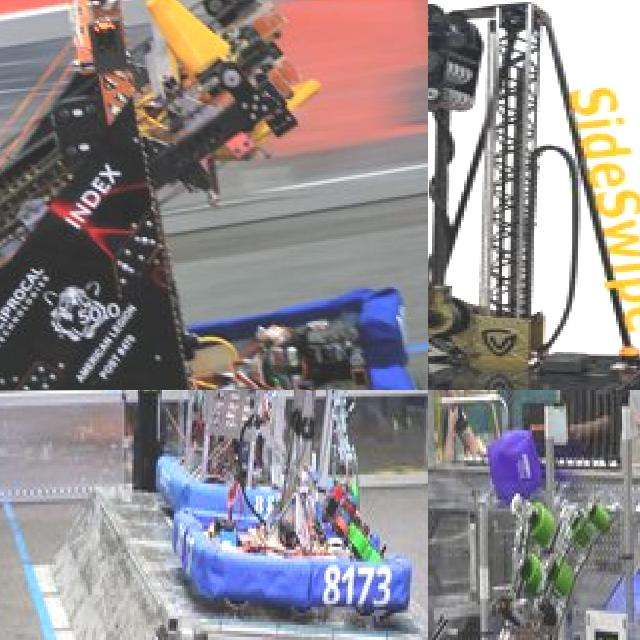FRC-Robots: (0, 0, 428, 390), (428, 0, 640, 390), (162, 390, 427, 640), (428, 479, 621, 640)
